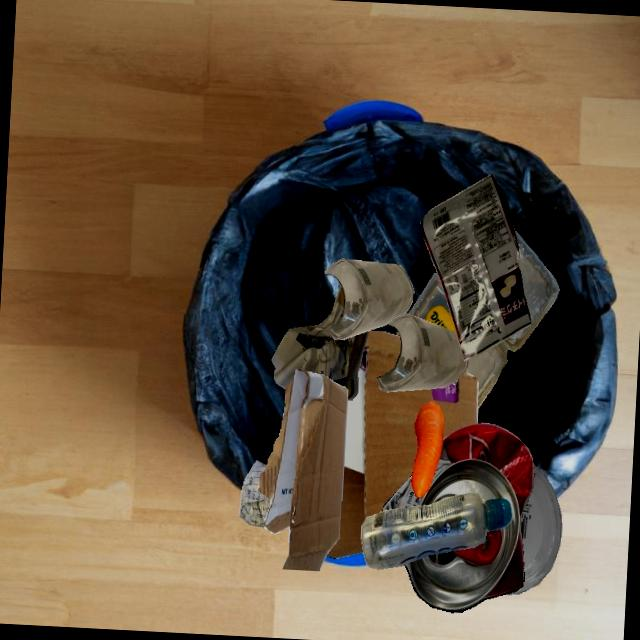biowaste: (411, 401, 443, 498)
cardboard: (326, 331, 478, 559), (258, 369, 348, 572)
glass: (324, 258, 414, 340), (376, 314, 468, 392)
metal: (382, 423, 534, 612)
paper: (271, 284, 368, 400), (239, 460, 270, 528)
plastic: (420, 175, 532, 361), (466, 250, 559, 410), (361, 493, 512, 570), (506, 465, 562, 595)
